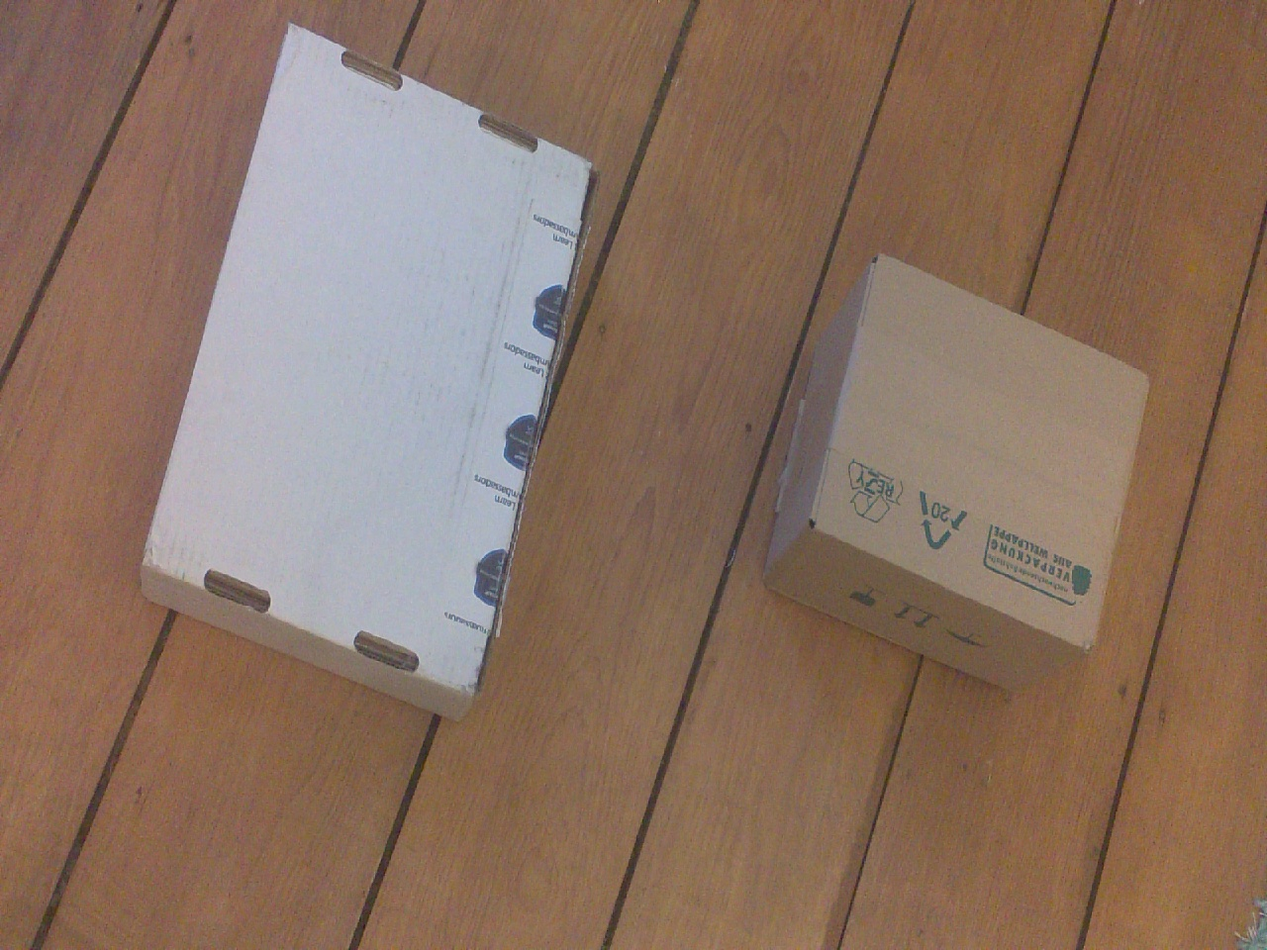good-parcel: (141, 14, 600, 718), (765, 256, 1159, 704)
